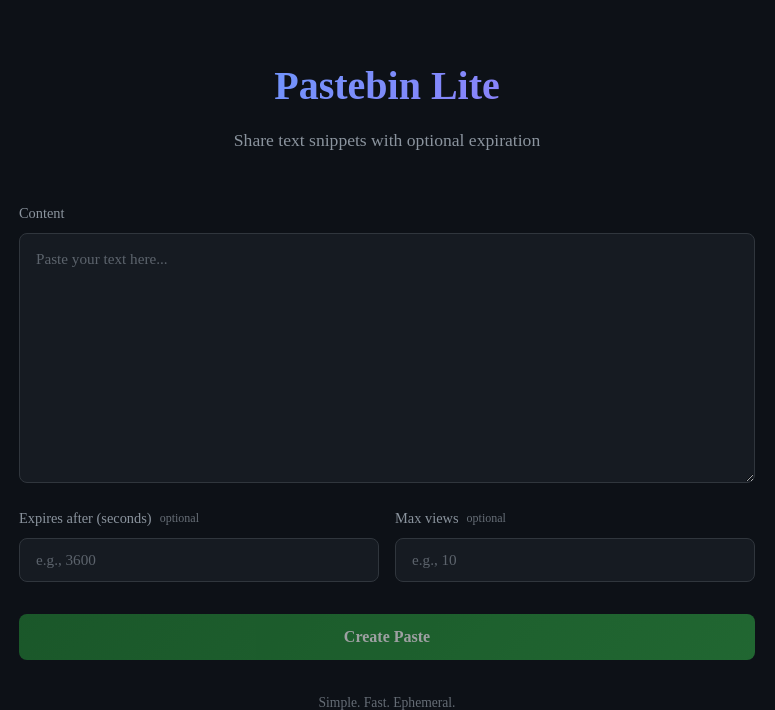
Home Page - Create Paste Form › form submission - errors › should display server validation error for invalid max views
The width and height of the screenshot is (775, 710).
Type "Test" into the text box labelled "Content" at (387, 358), box [19,233,755,483]
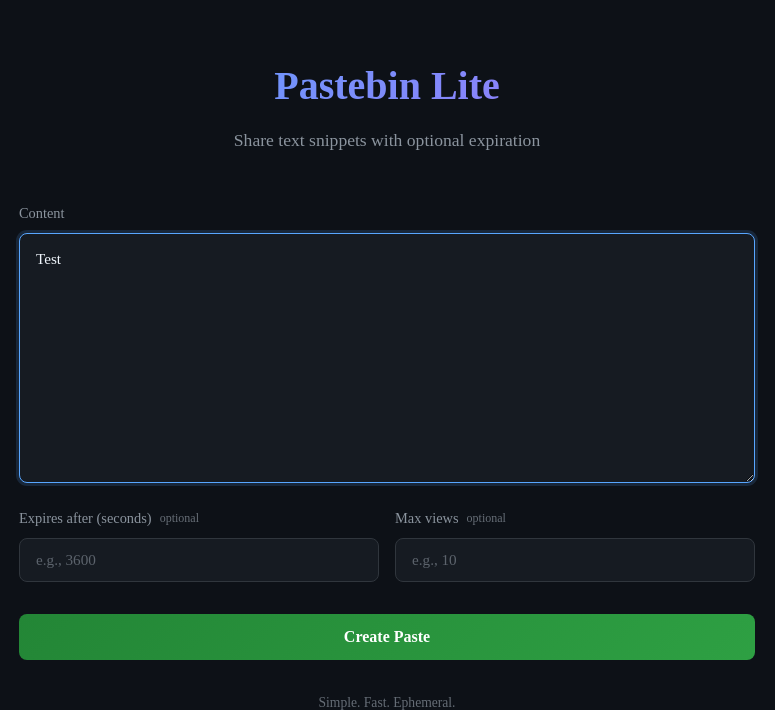
Type "1" into the number field labelled "Max views optional" at (575, 560), box [395,538,755,582]
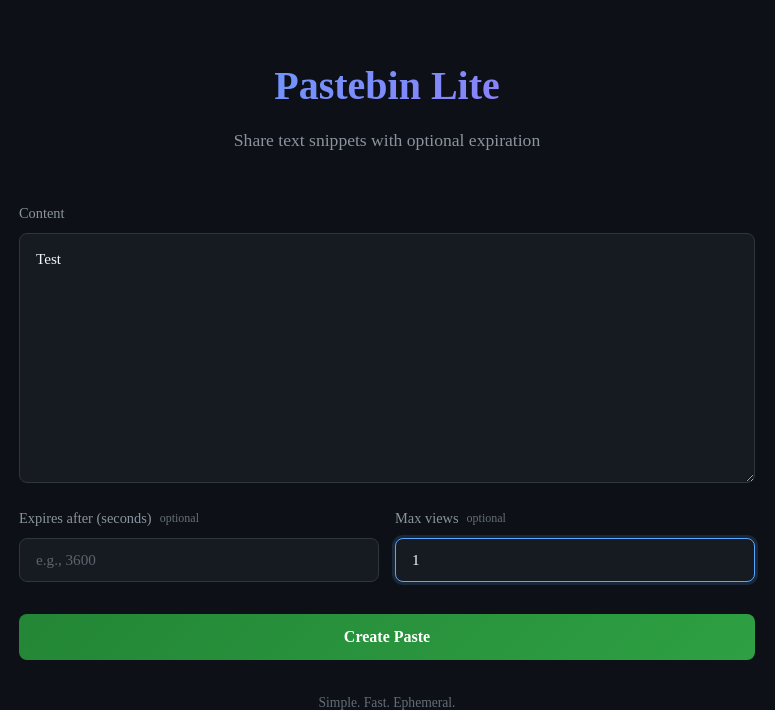
Click the button "Create Paste" at (387, 637), box [19,614,755,660]
(page scrolled)
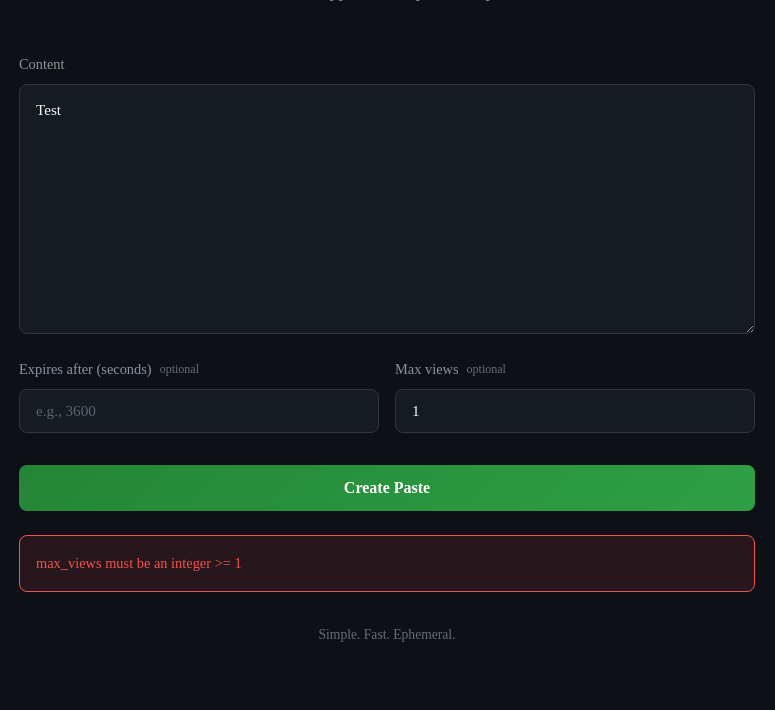
Expected: the message shows "max_views must be an integer", [36,555,242,571]
